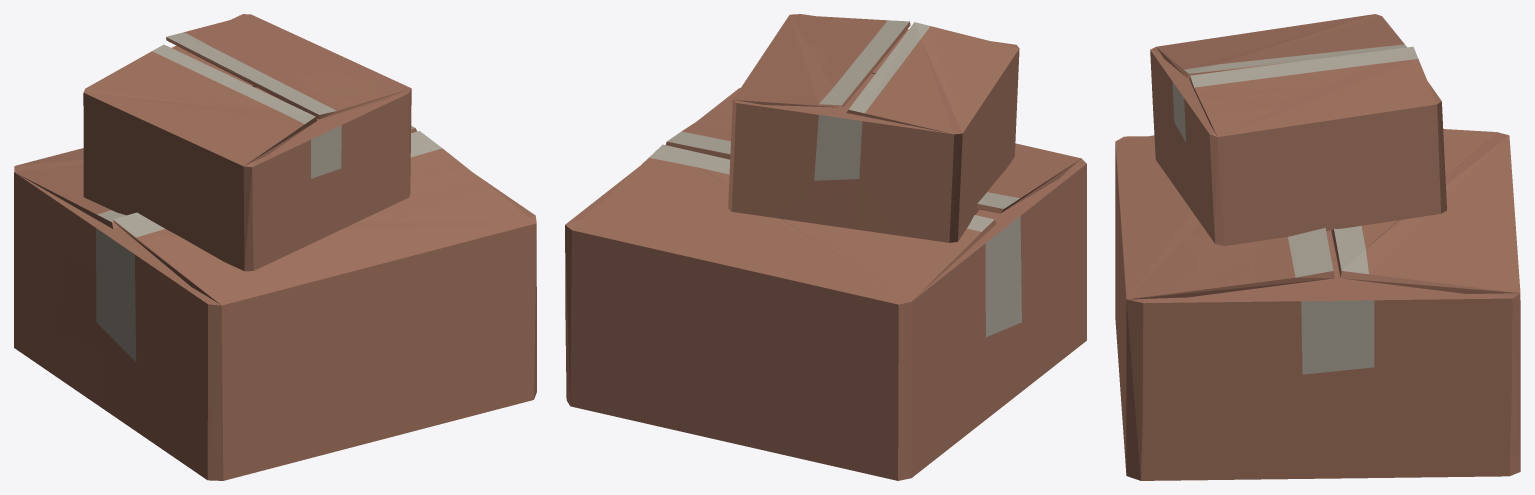
Rendered from boxes.fbx.
3 views of the same model, side by side, from view 1: azimuth 30°, elevation 25°; view 2: azimuth 150°, elevation 25°; view 3: azimuth 270°, elevation 25° (orthographic).
Parts seen in each view (by area): view 1: Cardboard Boxes; view 2: Cardboard Boxes; view 3: Cardboard Boxes.
Boxes of the visible parts, left/top/right/bottom form: Cardboard Boxes: left=14, top=14, right=536, bottom=480; Cardboard Boxes: left=565, top=14, right=1086, bottom=480; Cardboard Boxes: left=1115, top=14, right=1520, bottom=480.
Bounding box in the file's own units: 71.95 × 62.31 × 71.98.
